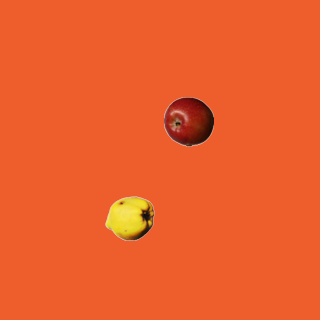Apple Braeburn: (163, 96, 213, 146)
Quince: (104, 193, 154, 243)
